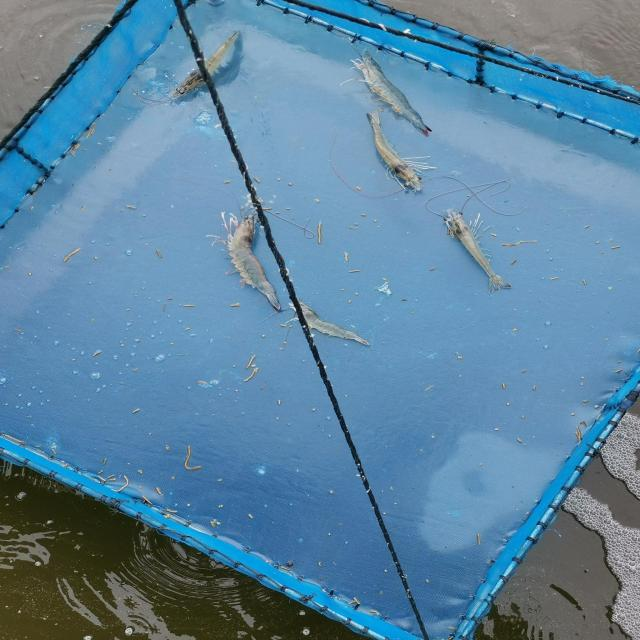Shrimp feeds: (228, 302, 243, 309), (183, 304, 196, 308), (347, 299, 354, 305), (501, 383, 506, 389), (224, 180, 230, 183), (248, 515, 253, 518), (426, 580, 429, 583)
